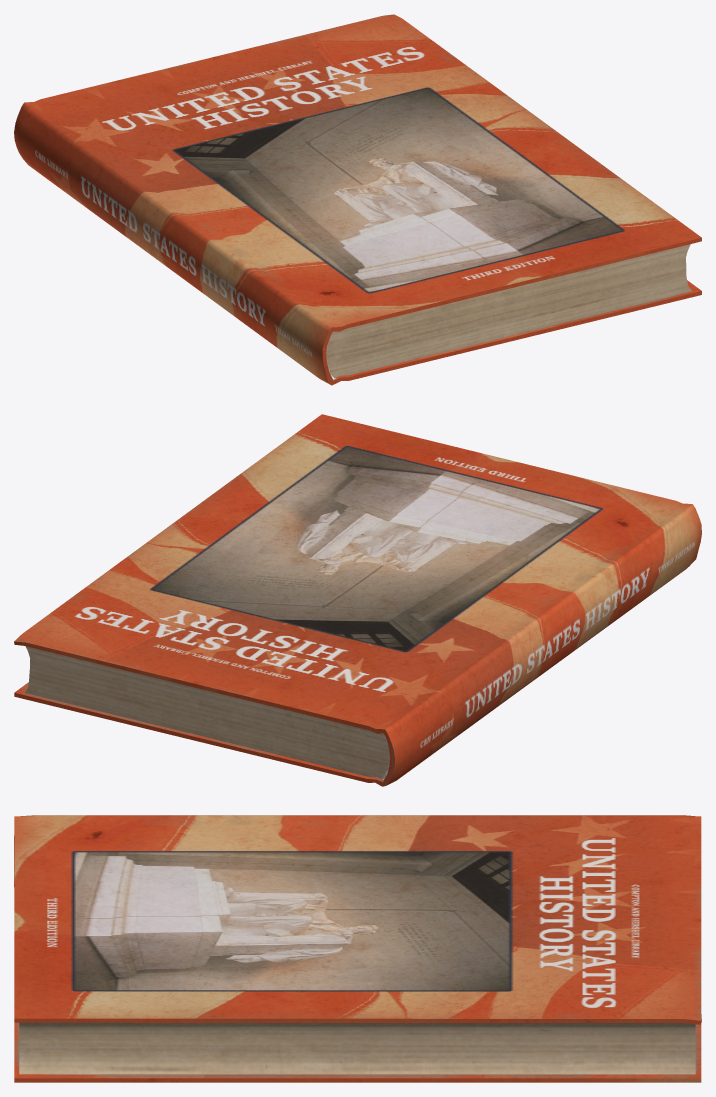
Rendered from SM_Books_02a.fbx.
The picture shows the model from 3 angles, top to bottom: view 1: azimuth 30°, elevation 25°; view 2: azimuth 150°, elevation 25°; view 3: azimuth 270°, elevation 25°; orthographic projection. The views are drawn at different scales.
Visible parts, largest first — view 1: SM_Books_02a_LOD0; view 2: SM_Books_02a_LOD0; view 3: SM_Books_02a_LOD0.
Boxes of the visible parts, <box> form: SM_Books_02a_LOD0: <box>14,14,701,385</box>; SM_Books_02a_LOD0: <box>14,414,701,786</box>; SM_Books_02a_LOD0: <box>14,815,701,1082</box>.
Size of the model in its own units: 26.51 by 36.91 by 3.84.
Materials: 1 (1 with a texture image).
